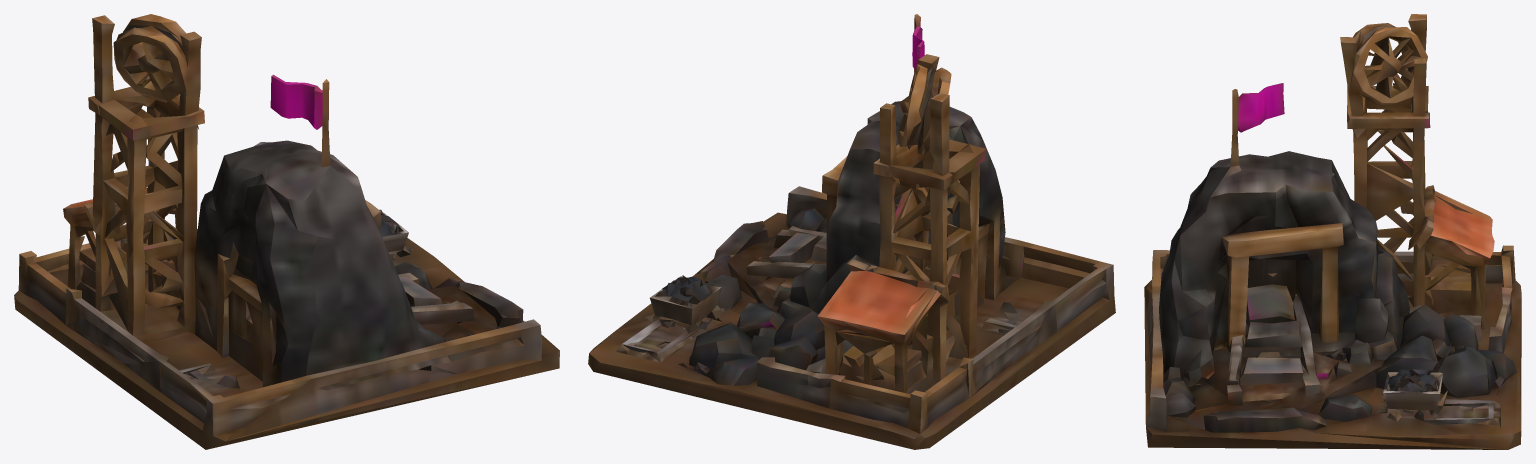
Rendered from iron_mine2.lod2.glb.
3 renders of one model, left to right at view 1: azimuth 30°, elevation 25°; view 2: azimuth 150°, elevation 25°; view 3: azimuth 270°, elevation 25°, orthographic. The views are drawn at different scales.
Visible parts, largest first — view 1: iron_mine2.lod2_uv; view 2: iron_mine2.lod2_uv; view 3: iron_mine2.lod2_uv.
Part boxes in pixels (<box>): iron_mine2.lod2_uv: <box>14,14,559,449</box>; iron_mine2.lod2_uv: <box>588,14,1115,449</box>; iron_mine2.lod2_uv: <box>1144,14,1521,449</box>.
Bounding box in the file's own units: 1.91 × 1.65 × 1.89.
Materials: 1 (1 with a texture image).
